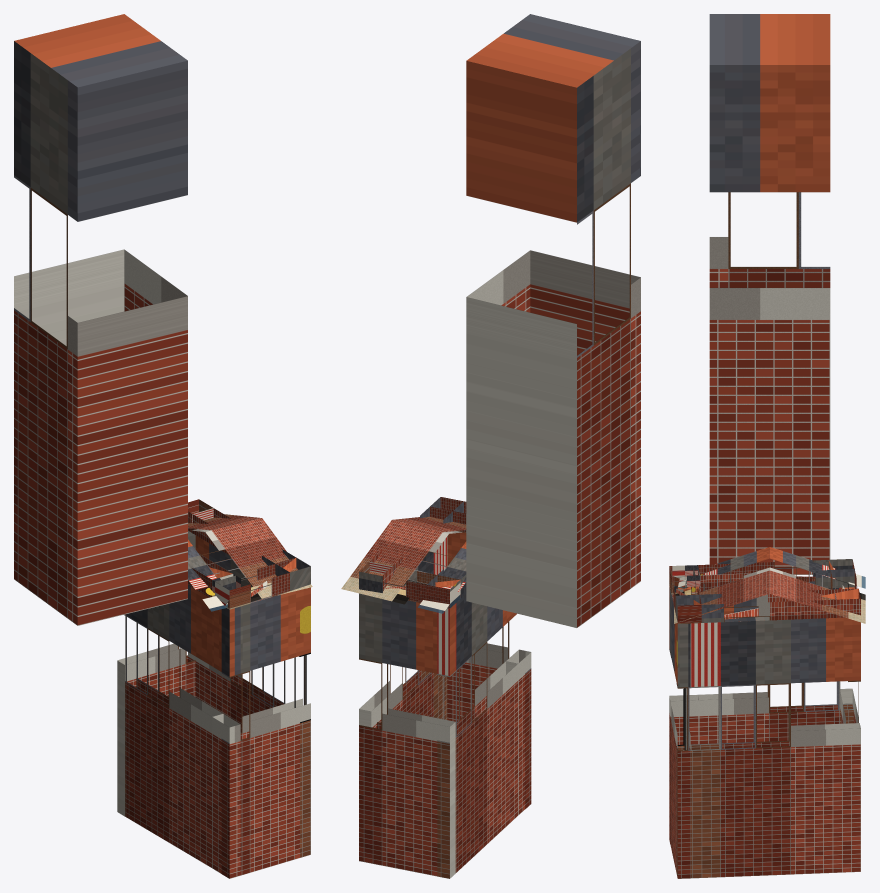
3 views of the same model, side by side, from view 1: azimuth 30°, elevation 25°; view 2: azimuth 150°, elevation 25°; view 3: azimuth 270°, elevation 25° (orthographic). The views are drawn at different scales.
Parts seen in each view (by area): view 1: 238568846__chimney_0_xb, 238568846__wall_1_xb, 238568846__wall_3_xb, 238568846__wall_4_xb, 238568846__wall_2_xb, 238568846_roof_-1_xb, 238568846__wall_0_xb, 238568846__cornice_3, 238568846__cornice_4, 238568846_roof_1_xb, 238568846__cornice_2; view 2: 238568846__chimney_0_xb, 238568846__wall_0_xb, 238568846__wall_1_xb, 238568846_roof_1_xb, 238568846__wall_4_xb, 238568846__wall_3_xb, 238568846__cornice_0, 238568846__wall_2_xb, 238568846_roof_-1_xb, 238568846__cornice_3; view 3: 238568846__chimney_0_xb, 238568846__wall_4_xb, 238568846__wall_1_xb, 238568846__wall_3_xb, 238568846__cornice_4, 238568846_roof_1_xb, 238568846_roof_-1_xb, 238568846__cornice_1, 238568846__wall_2_xb, 238568846__cornice_3, 238568846__cornice_2, 238568846__wall_0_xb.
Part boxes in pixels (<box>): 238568846__chimney_0_xb: <box>14,14,187,625</box>; 238568846__wall_1_xb: <box>124,585,222,867</box>; 238568846__wall_3_xb: <box>221,587,310,878</box>; 238568846__wall_4_xb: <box>188,535,310,857</box>; 238568846__wall_2_xb: <box>212,606,240,878</box>; 238568846_roof_-1_xb: <box>188,518,312,611</box>; 238568846__wall_0_xb: <box>117,531,195,816</box>; 238568846__cornice_3: <box>215,557,296,606</box>; 238568846__cornice_4: <box>188,499,310,590</box>; 238568846_roof_1_xb: <box>188,514,261,531</box>; 238568846__cornice_2: <box>212,574,250,609</box>; 238568846__chimney_0_xb: <box>466,14,640,627</box>; 238568846__wall_0_xb: <box>359,593,455,878</box>; 238568846__wall_1_xb: <box>437,594,518,878</box>; 238568846_roof_1_xb: <box>341,520,466,613</box>; 238568846__wall_4_xb: <box>359,537,447,728</box>; 238568846__wall_3_xb: <box>447,532,531,808</box>; 238568846__cornice_0: <box>359,562,460,607</box>; 238568846__wall_2_xb: <box>506,649,531,815</box>; 238568846_roof_-1_xb: <box>392,516,466,533</box>; 238568846__cornice_3: <box>430,497,466,532</box>; 238568846__chimney_0_xb: <box>709,14,830,574</box>; 238568846__wall_4_xb: <box>676,616,860,878</box>; 238568846__wall_1_xb: <box>698,581,853,743</box>; 238568846__wall_3_xb: <box>669,589,690,878</box>; 238568846__cornice_4: <box>675,588,860,622</box>; 238568846_roof_1_xb: <box>770,547,865,623</box>; 238568846_roof_-1_xb: <box>674,547,769,623</box>; 238568846__cornice_1: <box>698,559,854,591</box>; 238568846__wall_2_xb: <box>669,585,698,843</box>; 238568846__cornice_3: <box>670,565,701,623</box>; 238568846__cornice_2: <box>669,565,699,594</box>; 238568846__wall_0_xb: <box>840,587,860,723</box>.
Size of the model in its own units: 0.2944 by 1.05 by 0.2443.
1 material, 1 textured.
